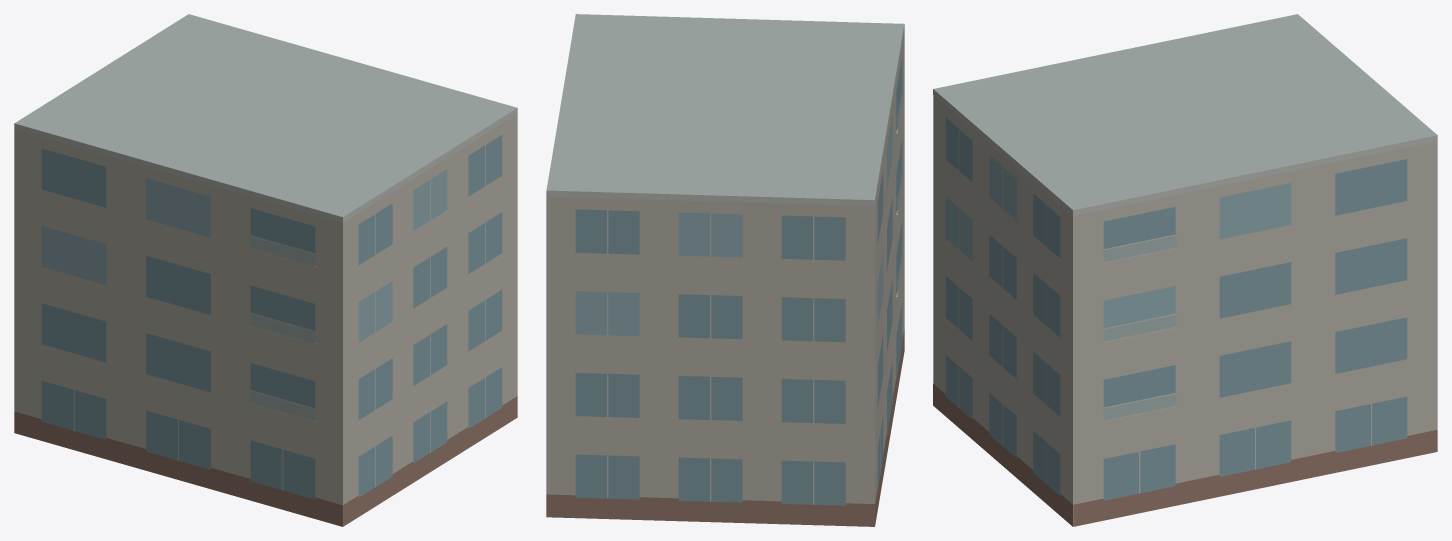
The model's file is survey-upis-32701402.glb.
3 views of the same model, side by side, from view 1: azimuth 30°, elevation 25°; view 2: azimuth 150°, elevation 25°; view 3: azimuth 270°, elevation 25° (orthographic). The views are drawn at different scales.
Parts seen in each view (by area): view 1: survey-upis-32701402.tmp; view 2: survey-upis-32701402.tmp; view 3: survey-upis-32701402.tmp.
Part boxes in pixels (x1,y1,x2,y2): survey-upis-32701402.tmp: (14,14,517,526); survey-upis-32701402.tmp: (546,14,904,526); survey-upis-32701402.tmp: (933,14,1437,526).
Size of the model in its own units: 17.29 by 13 by 18.78.
